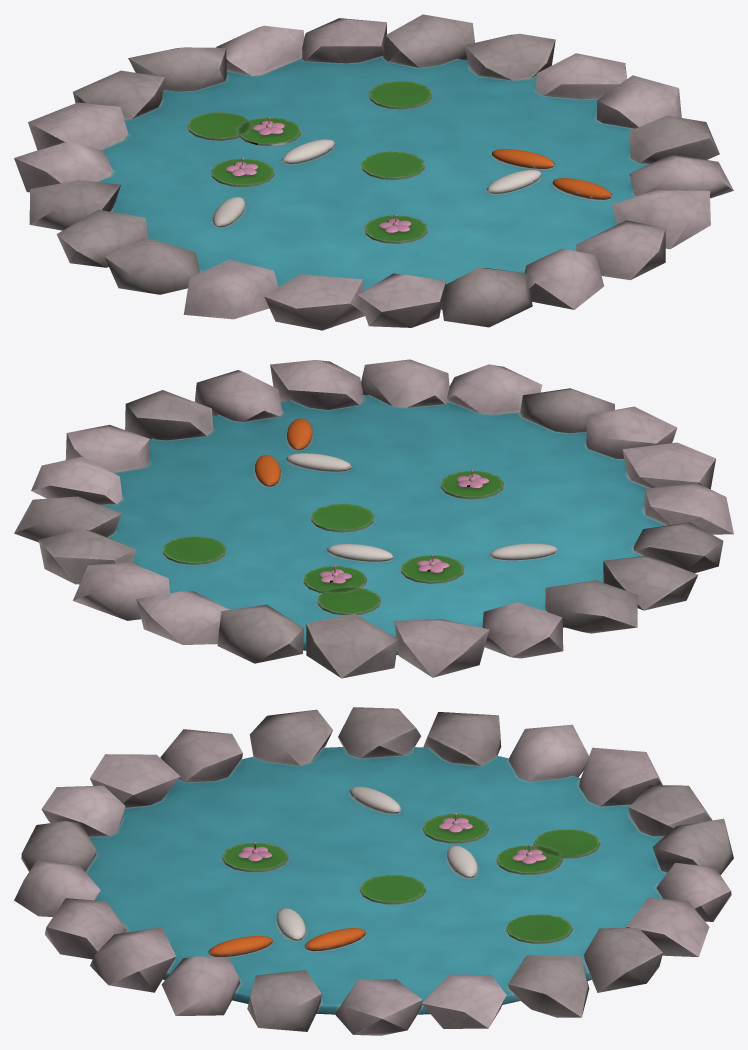
Rendered from cb_koi_pond.fbx.
3 renders of one model, top to bottom at view 1: azimuth 30°, elevation 25°; view 2: azimuth 150°, elevation 25°; view 3: azimuth 270°, elevation 25°, orthographic. The views are drawn at different scales.
Visible parts, largest first — view 1: cb_koi_pond; view 2: cb_koi_pond; view 3: cb_koi_pond.
Boxes of the visible parts, x1,y1,x2,y2 form: cb_koi_pond: (14,14,733,330); cb_koi_pond: (14,359,733,678); cb_koi_pond: (14,707,733,1035).
Size of the model in its own units: 7.15 by 0.612 by 6.94.
7 materials, 7 textured.
